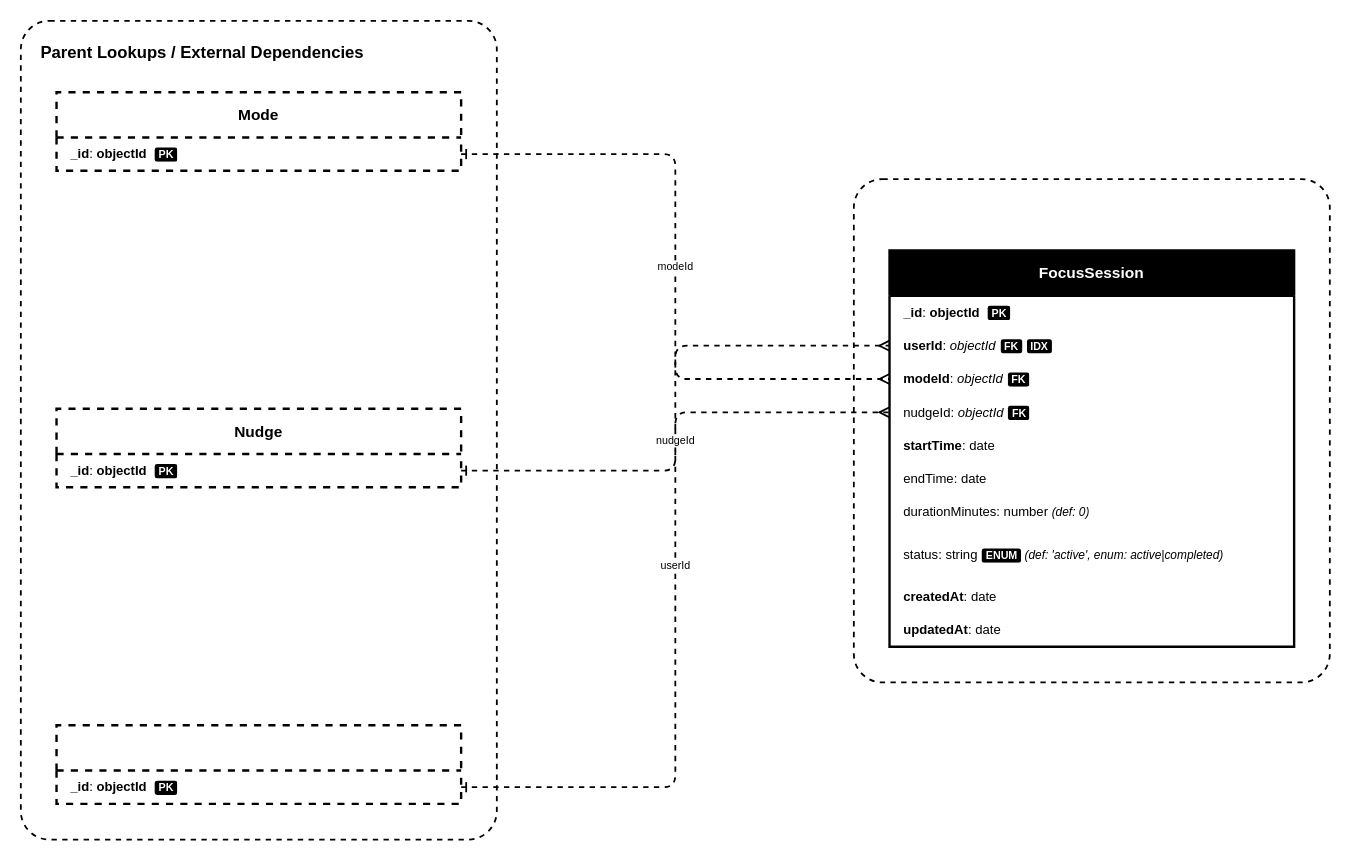
This 1352x862 diagram has some shape labels left out. Each missing label, with the box of its shape:
Core Module: FocusSession: (852, 178, 1330, 683)
User: (55, 724, 462, 804)
